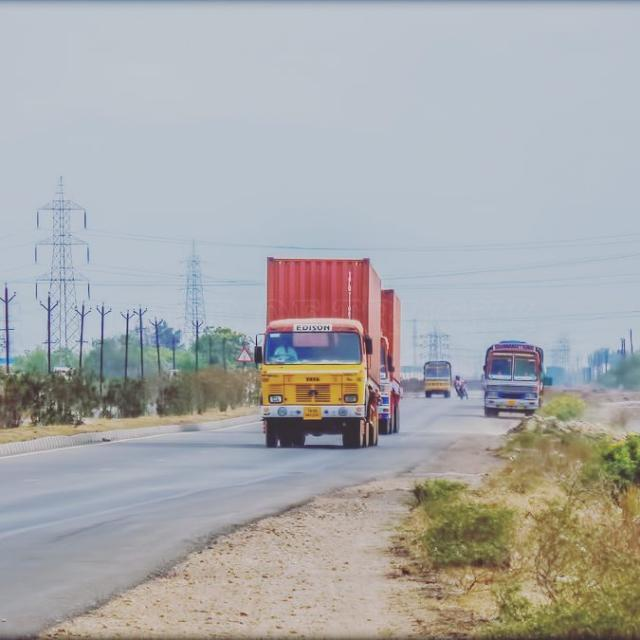Truck: (255, 256, 380, 448), (480, 338, 544, 421)
